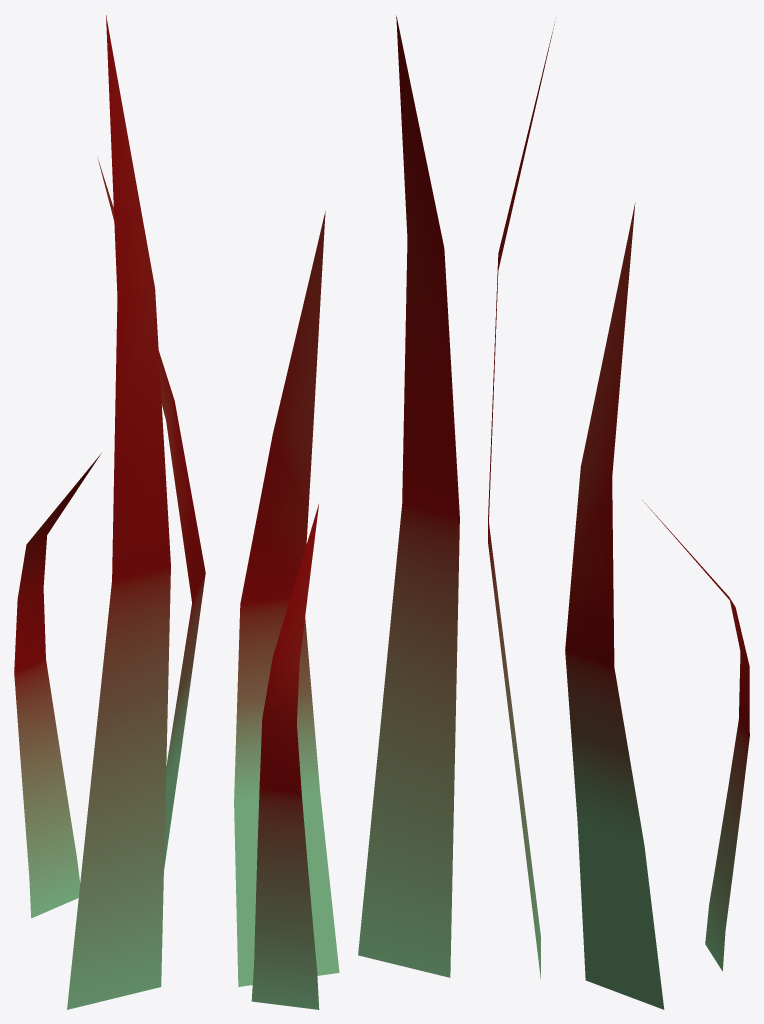
Rendered from Grass.fbx.
3 views of the same model, side by side, from view 1: azimuth 30°, elevation 25°; view 2: azimuth 150°, elevation 25°; view 3: azimuth 270°, elevation 25° (orthographic). The views are drawn at different scales.
Parts seen in each view (by area): view 1: Grass; view 2: Grass; view 3: Grass.
Boxes of the visible parts, left/top/right/bottom form: Grass: left=14, top=15, right=205, bottom=1009; Grass: left=234, top=15, right=459, bottom=1009; Grass: left=488, top=21, right=749, bottom=1009.
Bounding box in the file's own units: 35.08 × 186 × 46.56.
